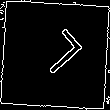L_SW: (26, 26, 84, 84)
